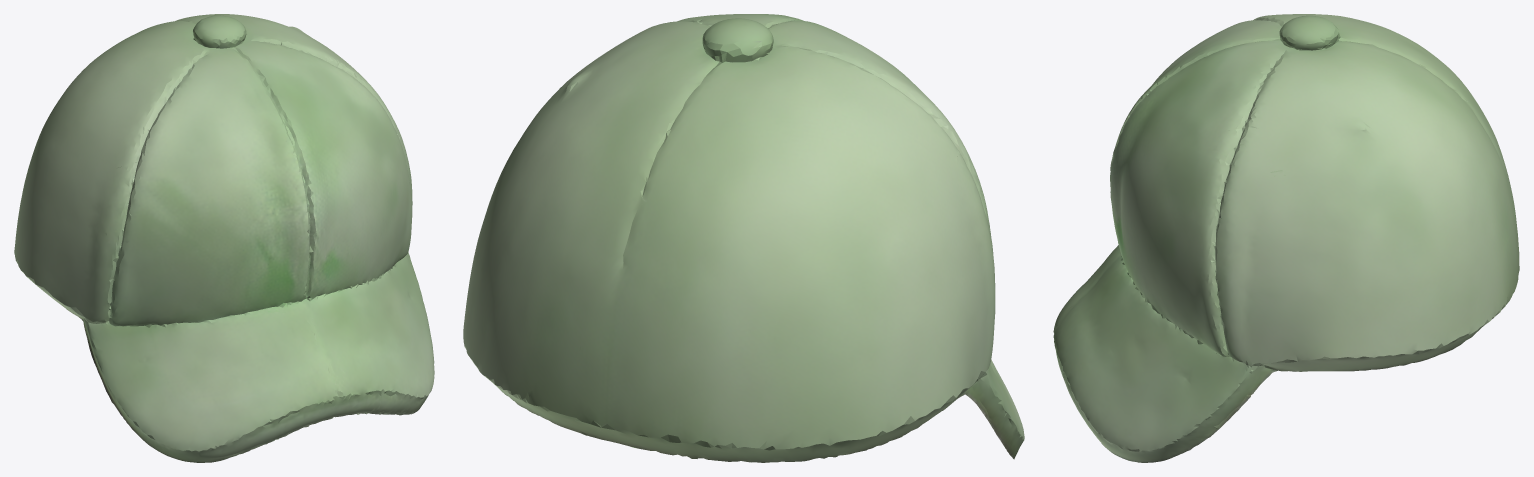
The model's file is cap_green_hyper3d.glb.
3 renders of one model, left to right at view 1: azimuth 30°, elevation 25°; view 2: azimuth 150°, elevation 25°; view 3: azimuth 270°, elevation 25°, orthographic. The views are drawn at different scales.
Visible parts, largest first — view 1: CapGreen_Hyper3D; view 2: CapGreen_Hyper3D; view 3: CapGreen_Hyper3D.
Boxes of the visible parts, left/top/right/bottom form: CapGreen_Hyper3D: left=14, top=14, right=434, bottom=462; CapGreen_Hyper3D: left=463, top=14, right=1024, bottom=462; CapGreen_Hyper3D: left=1053, top=14, right=1519, bottom=462.
Bounding box in the file's own units: 1.76 × 1.7 × 1.9.
Materials: 1 (1 with a texture image).
